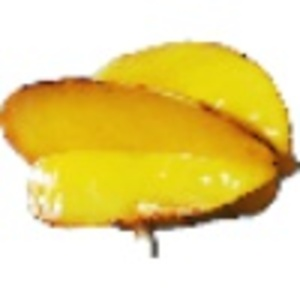carambola: (1, 39, 300, 256)
